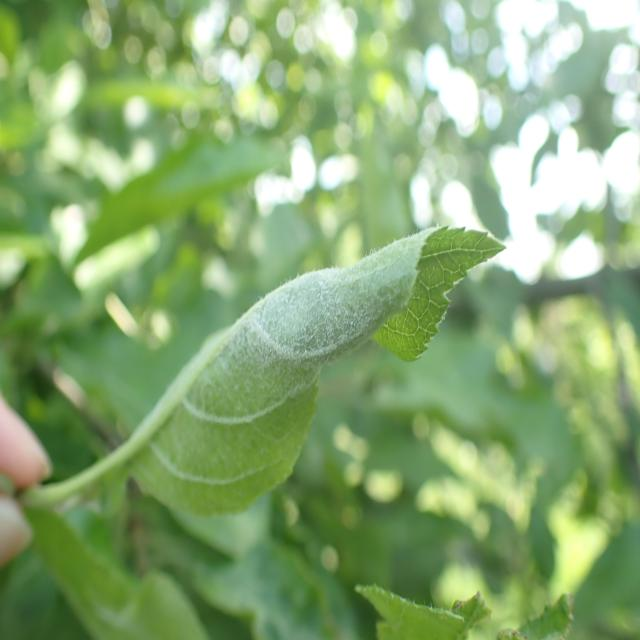Powdery_mildew: (21, 216, 540, 532)
